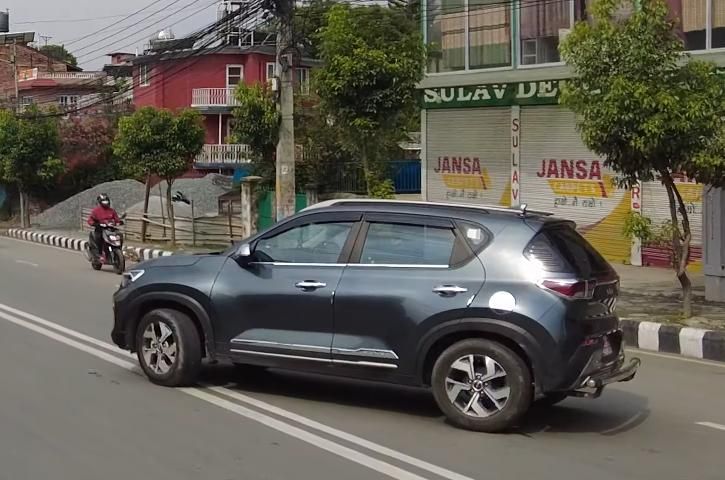car: (100, 196, 660, 421)
scooter: (81, 214, 133, 276)
